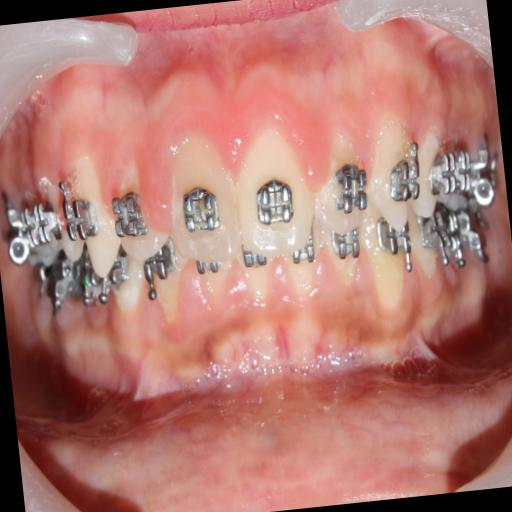correct_brace: (250, 174, 296, 230), (327, 162, 372, 218), (180, 185, 225, 236), (112, 184, 146, 240)
incorrect_brace: (310, 135, 376, 236), (110, 162, 171, 264)
